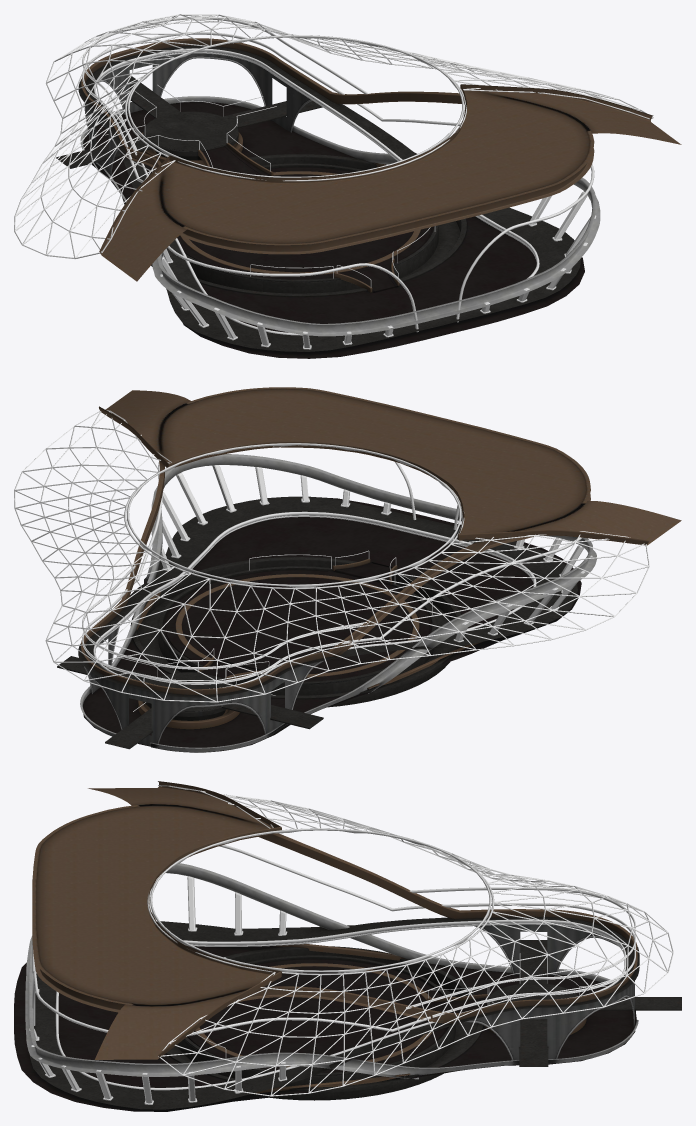
File: TestB.fbx
3 views of the same model, one above another, from view 1: azimuth 30°, elevation 25°; view 2: azimuth 150°, elevation 25°; view 3: azimuth 270°, elevation 25° (orthographic). The views are drawn at different scales.
Parts seen in each view (by area): view 1: Roof Wing_Baked, Floor_Baked, Platform Upper_Baked, Roof Wires, Wall Upper Rails, Wall Rail Upper_Baked, Wall Rail Lower_Baked, Wall Detail Small_Baked, Pillars Large, Platform Ramp_Baked, Floor Center Ring Ramp_Baked, Platform Glass Rails (+1 smaller); view 2: Floor_Baked, Roof Wing_Baked, Platform Upper_Baked, Roof Wires, Wall Upper Rails, Wall Rail Lower_Baked, Wall Rail Upper_Baked, Wall Detail Small_Baked, Pillars Large, Floor Center Ring Ramp_Baked, Platform Lower Ring_Baked, Wall Detail Small Rails_Baked (+3 smaller); view 3: Roof Wing_Baked, Floor_Baked, Platform Upper_Baked, Roof Wires, Wall Upper Rails, Wall Rail Lower_Baked, Wall Rail Upper_Baked, Wall Detail Small_Baked, Pillars Large, Mote Ring Edge_Baked, Wall Detail Small Rails_Baked, Platform Ramp_Baked.
Boxes of the visible parts, box(x1,y1,x2,y2) form: Roof Wing_Baked: box(99, 84, 681, 281); Floor_Baked: box(82, 102, 584, 358); Platform Upper_Baked: box(56, 45, 581, 351); Roof Wires: box(14, 14, 653, 258); Wall Upper Rails: box(82, 16, 594, 335); Wall Rail Upper_Baked: box(81, 38, 594, 254); Wall Rail Lower_Baked: box(80, 96, 600, 336); Wall Detail Small_Baked: box(85, 53, 310, 174); Pillars Large: box(160, 191, 596, 349); Platform Ramp_Baked: box(198, 142, 273, 175); Floor Center Ring Ramp_Baked: box(334, 258, 399, 292); Platform Glass Rails: box(105, 84, 435, 287); Floor_Baked: box(82, 497, 581, 752); Roof Wing_Baked: box(99, 389, 681, 545); Platform Upper_Baked: box(57, 496, 577, 749); Roof Wires: box(14, 410, 649, 702); Wall Upper Rails: box(82, 443, 582, 688); Wall Rail Lower_Baked: box(80, 454, 596, 752); Wall Rail Upper_Baked: box(81, 387, 590, 694); Wall Detail Small_Baked: box(86, 628, 319, 745); Pillars Large: box(160, 465, 592, 642); Floor Center Ring Ramp_Baked: box(332, 558, 397, 585); Platform Lower Ring_Baked: box(138, 700, 239, 729); Wall Detail Small Rails_Baked: box(84, 627, 324, 743); Roof Wing_Baked: box(36, 781, 281, 1059); Floor_Baked: box(14, 946, 636, 1111); Platform Upper_Baked: box(30, 917, 681, 1109); Roof Wires: box(158, 785, 673, 1096); Wall Upper Rails: box(32, 828, 635, 1090); Wall Rail Lower_Baked: box(25, 863, 638, 1079); Wall Rail Upper_Baked: box(32, 805, 637, 1024); Wall Detail Small_Baked: box(470, 924, 634, 1060); Pillars Large: box(29, 876, 287, 1104); Mote Ring Edge_Baked: box(250, 944, 410, 1094); Wall Detail Small Rails_Baked: box(464, 926, 634, 1060); Platform Ramp_Baked: box(426, 994, 488, 1022).
Bounding box in the file's own units: 5415 × 1129 × 5171.
